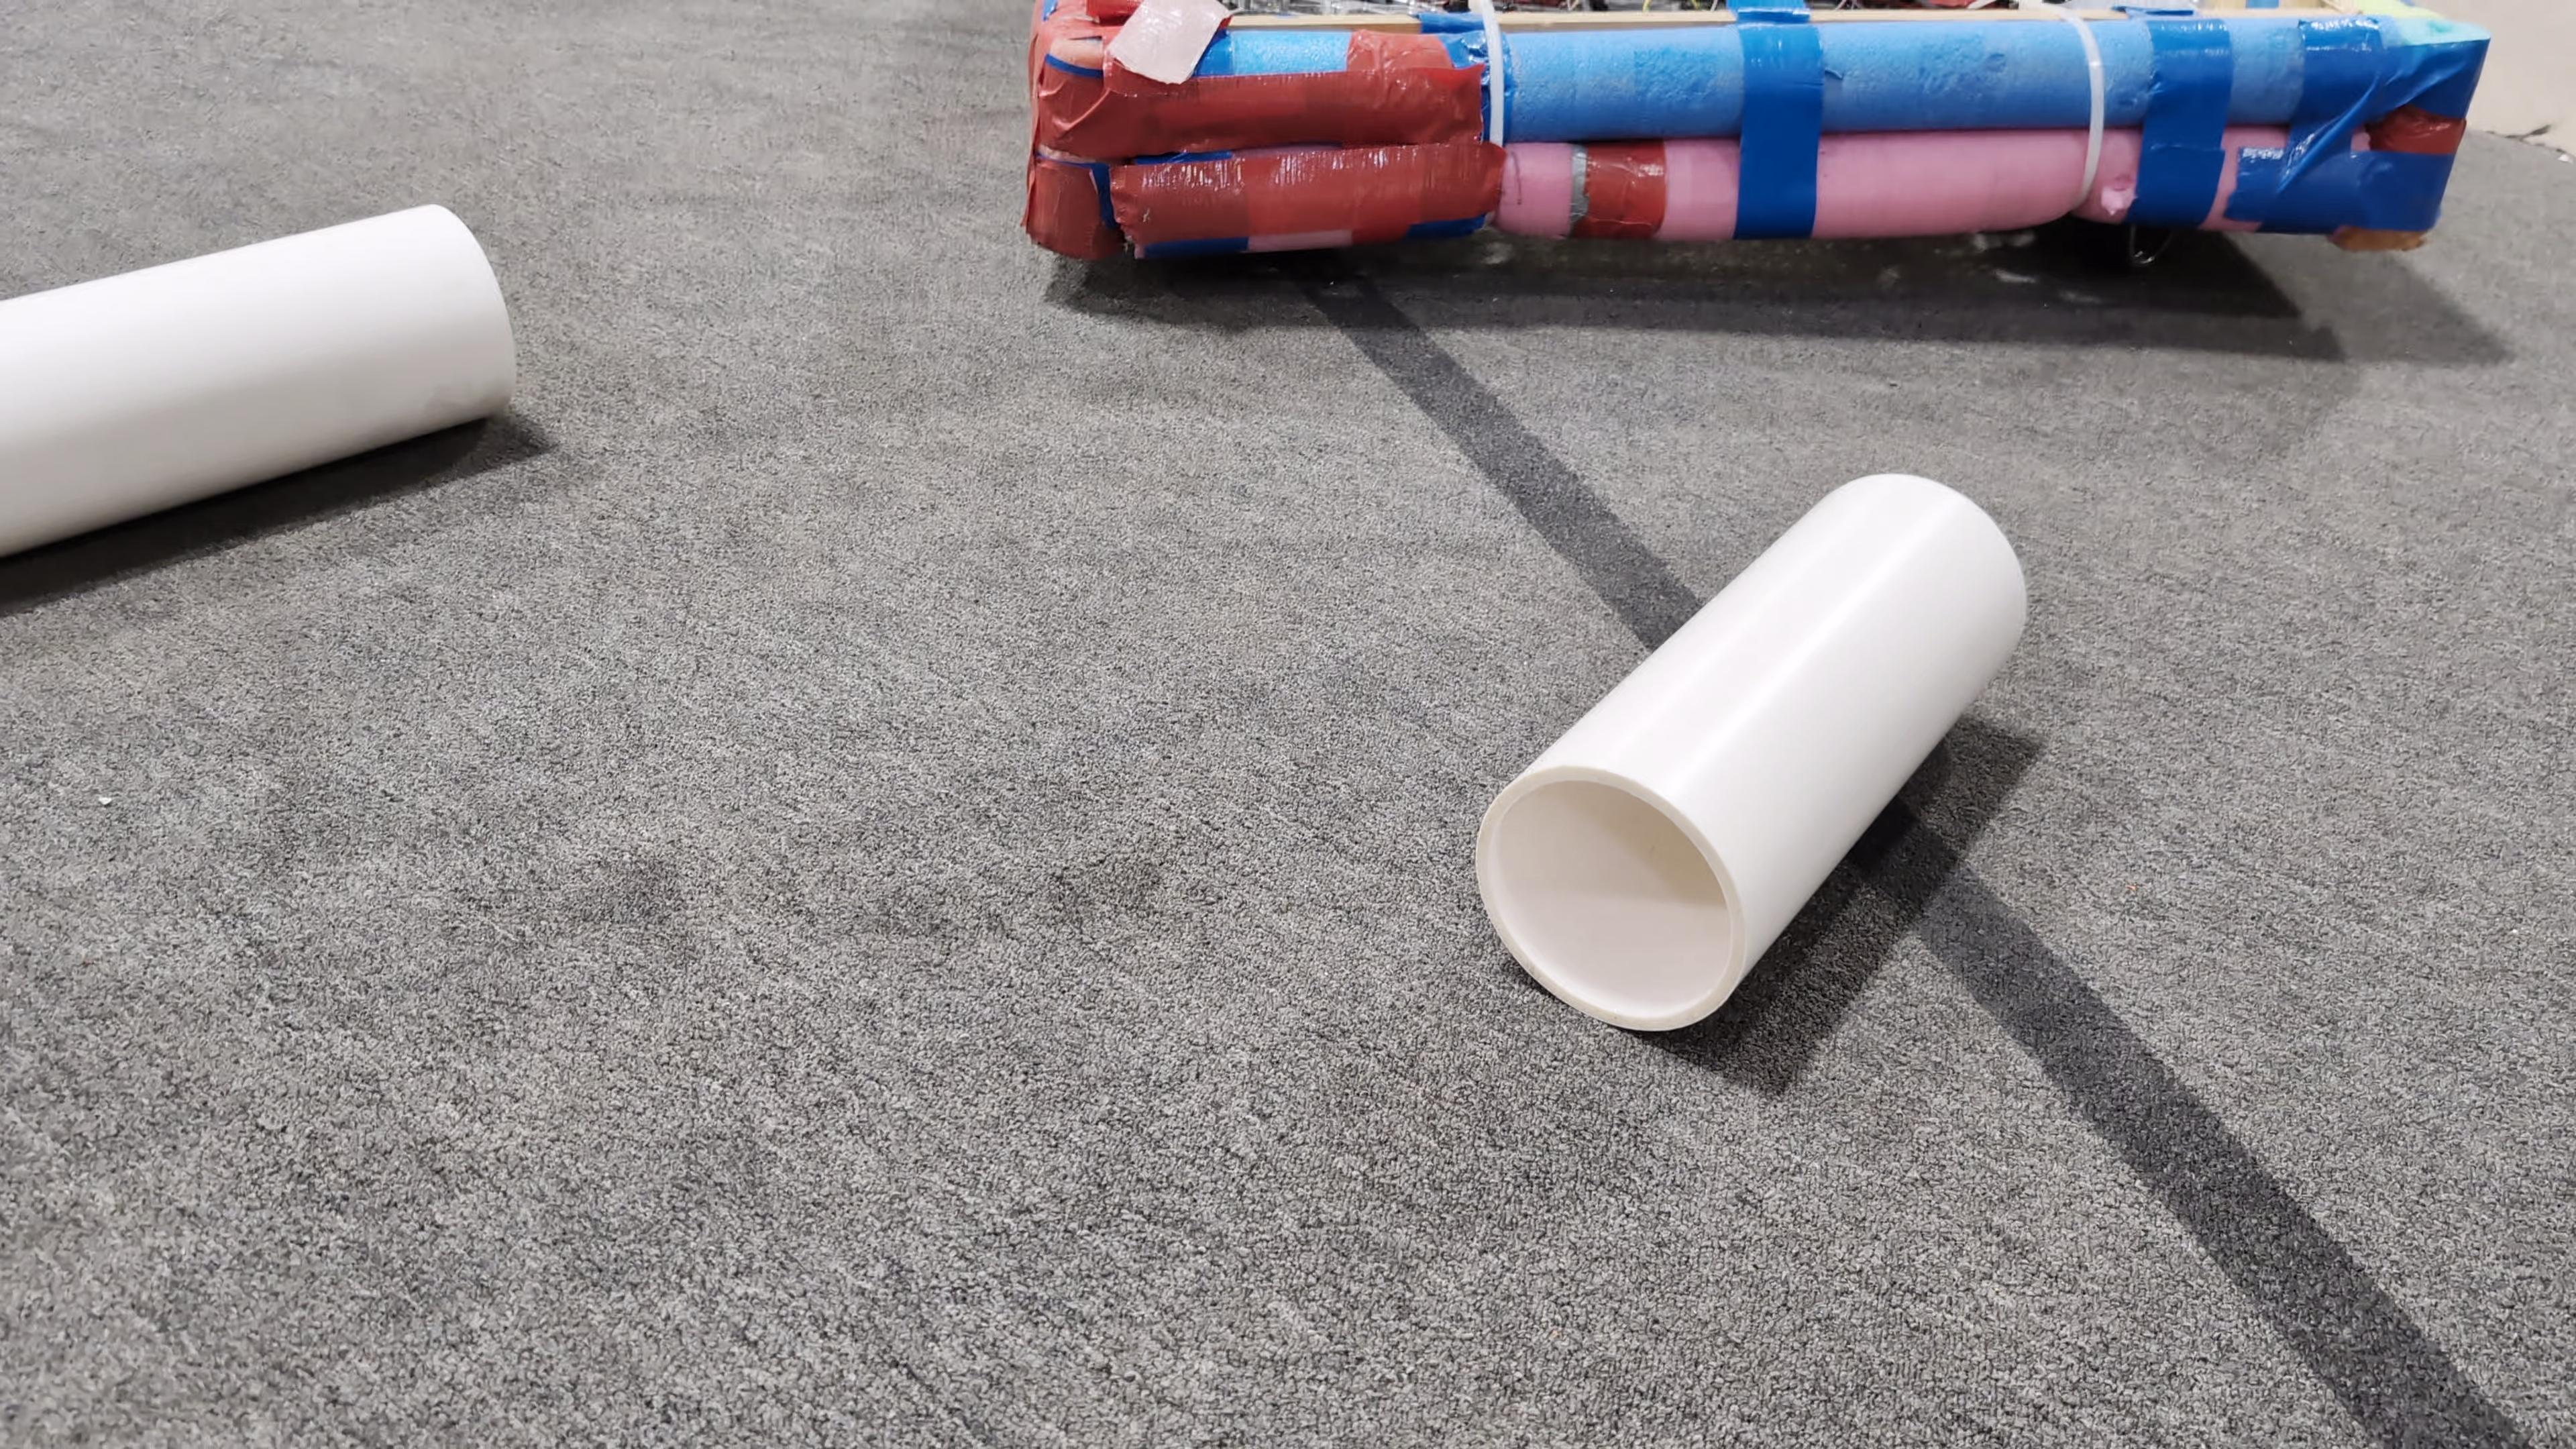coral: (1476, 469, 2031, 1030), (0, 200, 522, 582)
